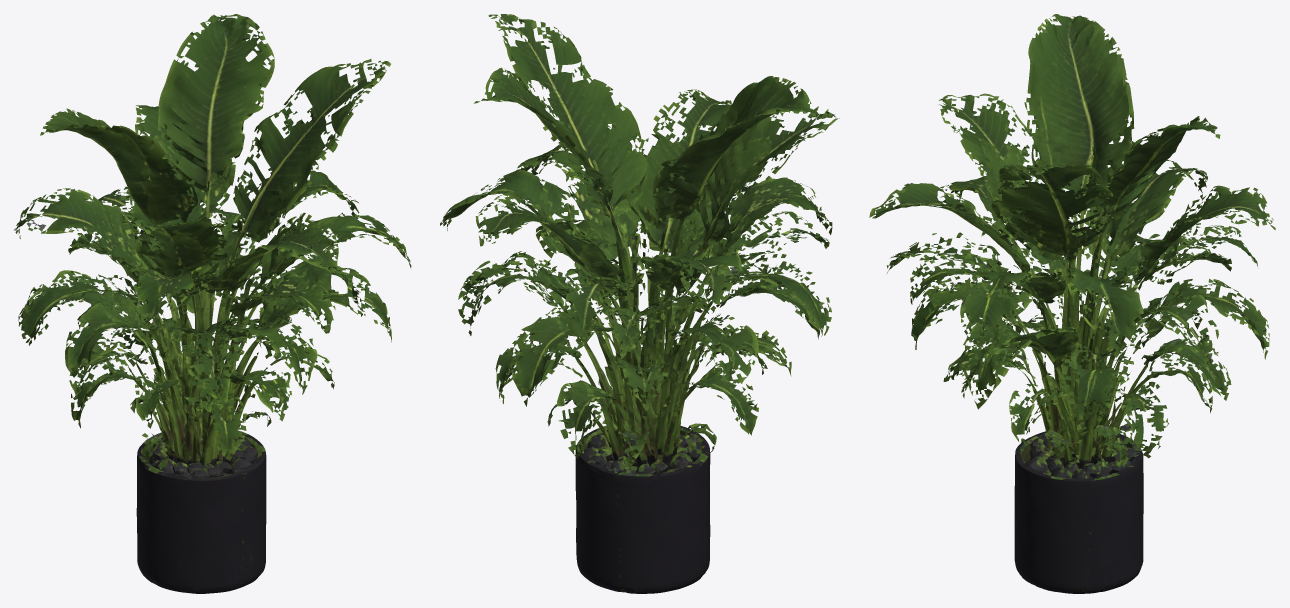
The model's file is neoevo-large-plant.glb.
The picture shows the model from 3 angles, left to right: view 1: azimuth 30°, elevation 25°; view 2: azimuth 150°, elevation 25°; view 3: azimuth 270°, elevation 25°; orthographic projection. The views are drawn at different scales.
Parts seen in each view (by area): view 1: output; view 2: output; view 3: output.
Boxes of the visible parts, x1,y1,x2,y2 form: output: (14, 14, 411, 593); output: (440, 14, 839, 593); output: (869, 14, 1275, 593).
Bounding box in the file's own units: 1.41 × 1.9 × 1.43.
Materials: 1 (1 with a texture image).
